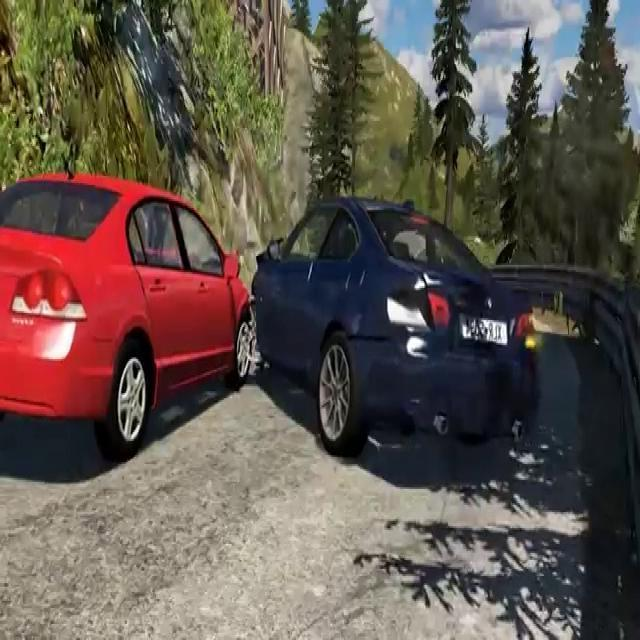accident: (0, 148, 549, 474)
